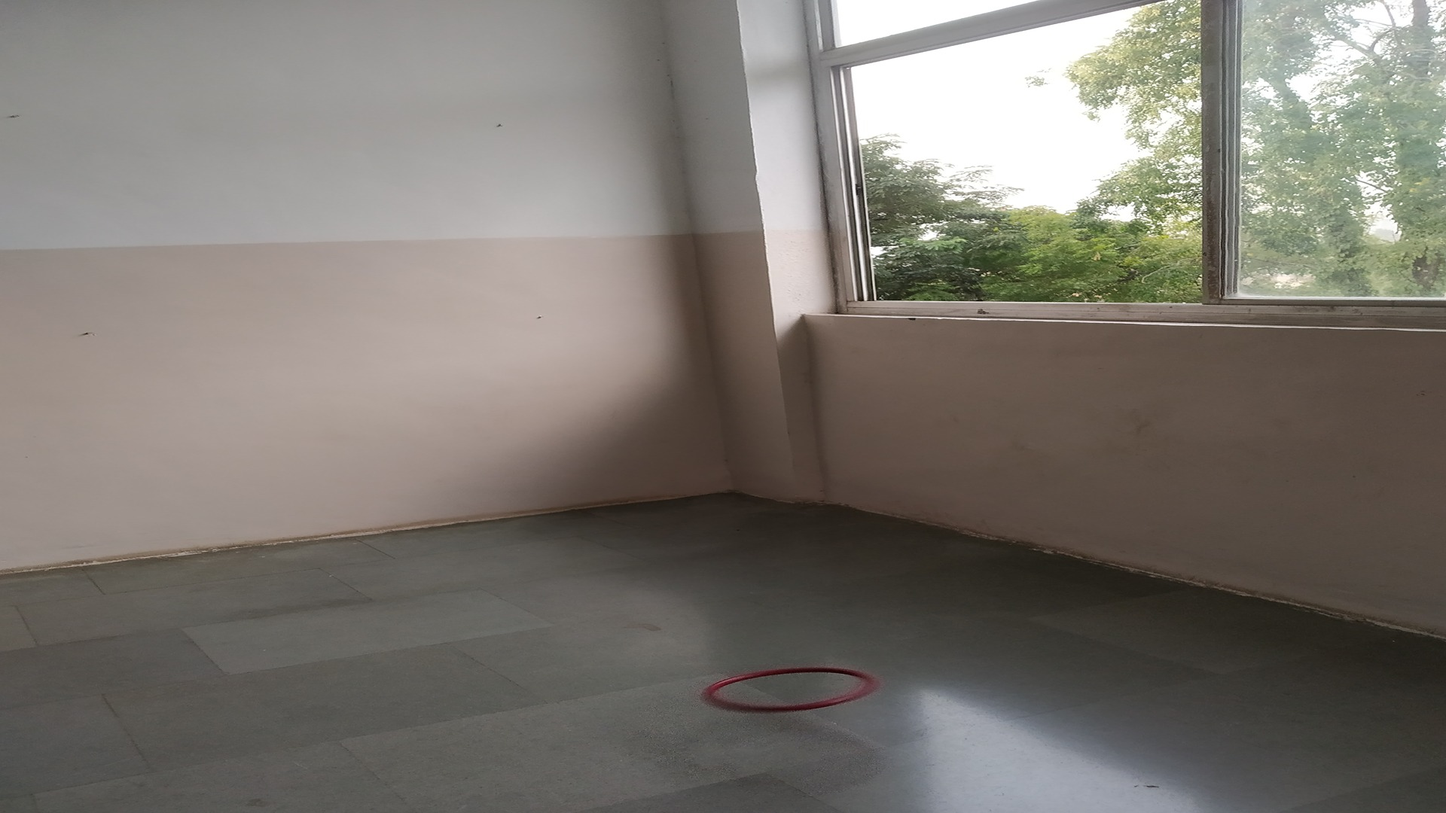Red ring: (703, 665, 876, 708)
